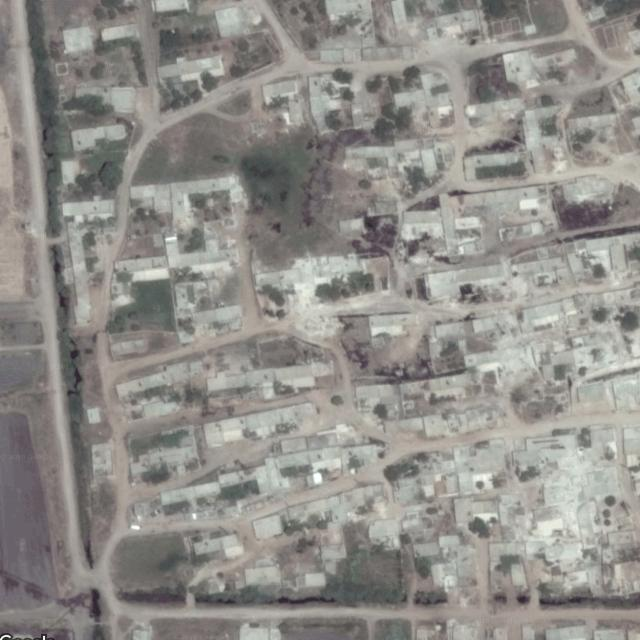damaged_building: (284, 282, 345, 342)
